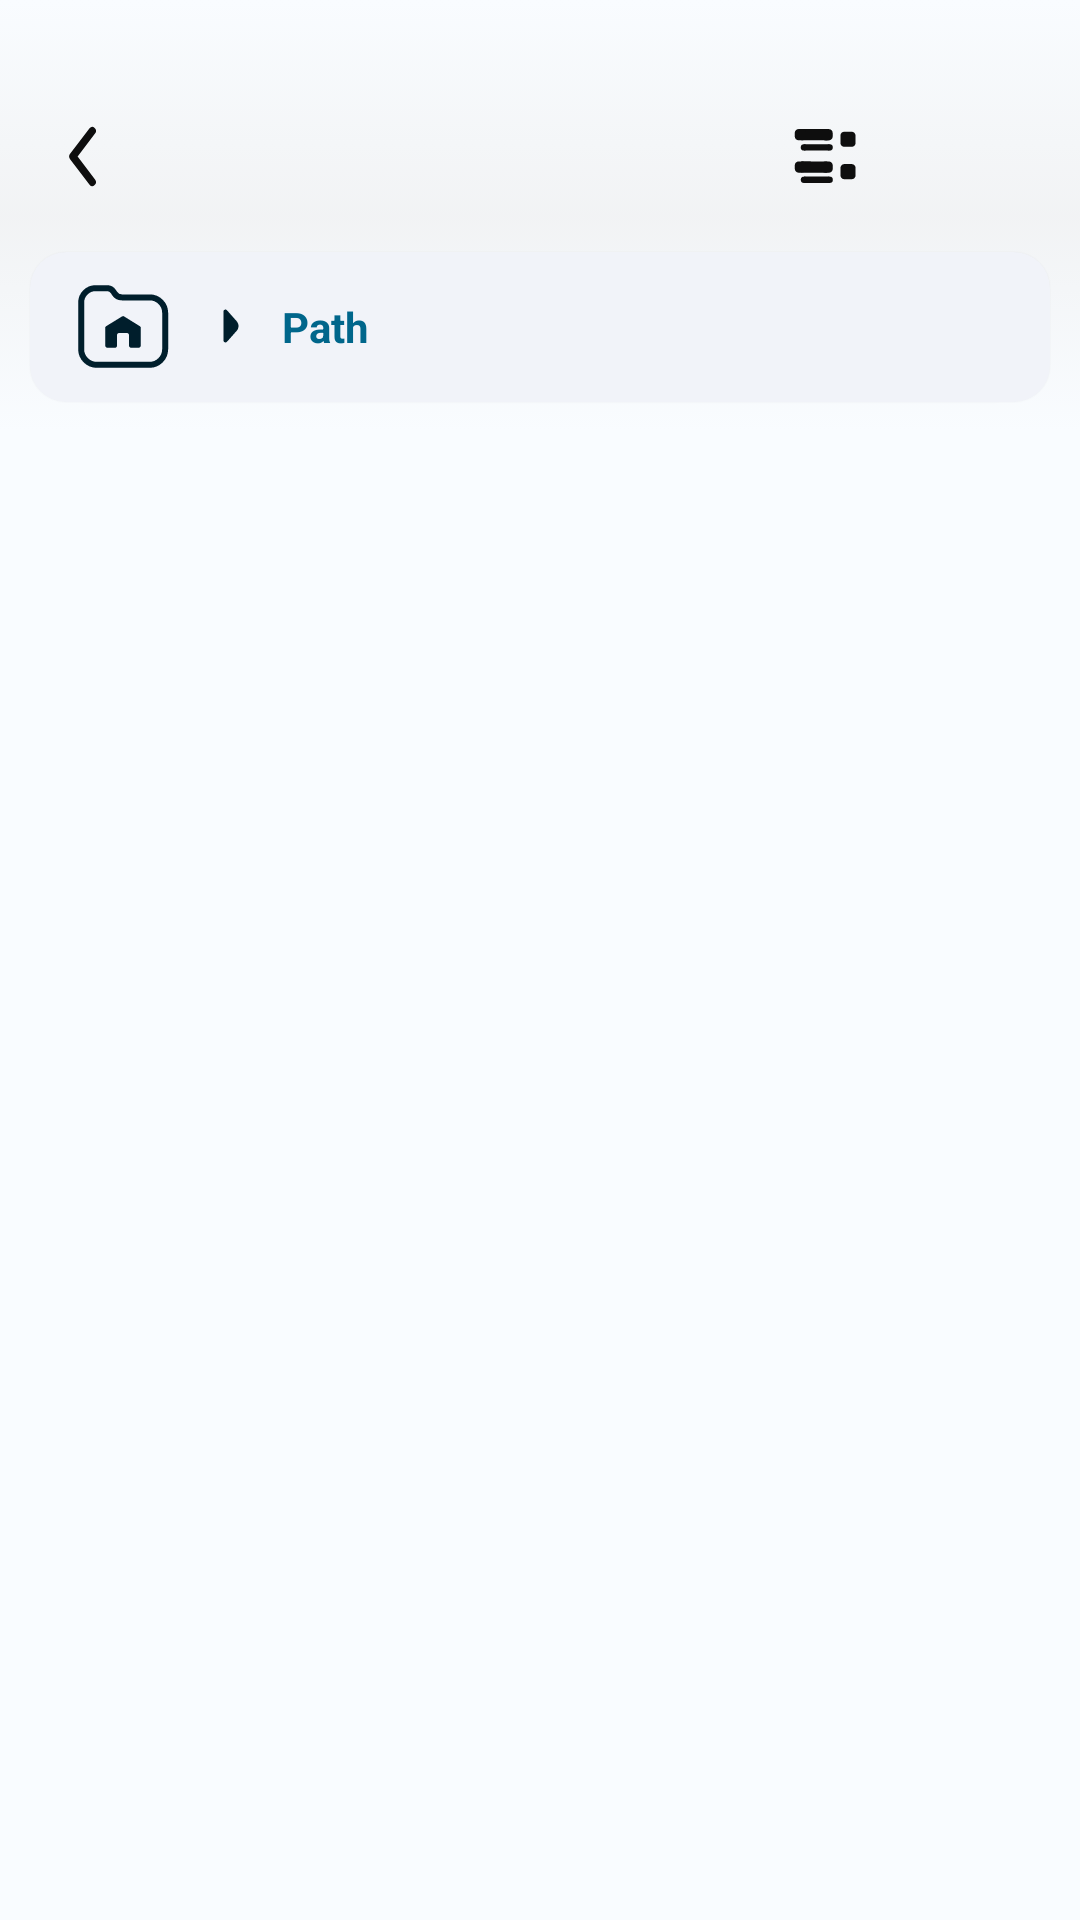

Where to tap for icons on this 1080x1920 app screen, as (x,y):
Home: (123,326)
view list: (825,156)
